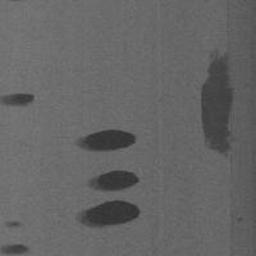Oil spot: (198, 44, 237, 160), (74, 198, 142, 229), (72, 128, 138, 154), (84, 168, 141, 193), (0, 92, 36, 109), (0, 242, 33, 256), (1, 219, 23, 229)
